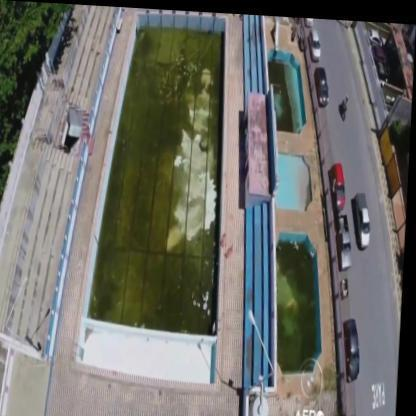agua: (126, 25, 222, 316), (277, 236, 329, 369), (266, 51, 299, 127)
